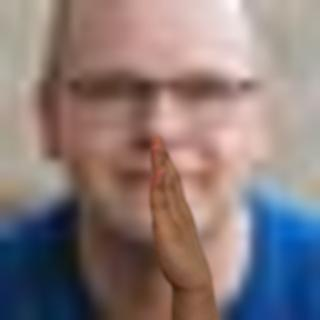RIGHT: (143, 131, 216, 295)
